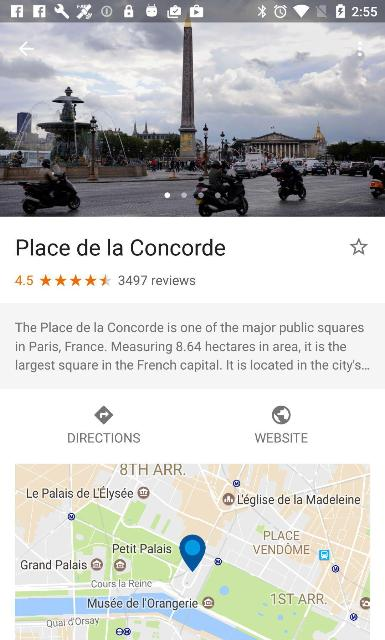Icon: (40, 274, 112, 286), (94, 406, 114, 424), (272, 406, 290, 424), (350, 237, 368, 255), (18, 41, 34, 57), (357, 41, 363, 58)
Image: (0, 23, 384, 217), (15, 464, 369, 640)
PageIndicator: (164, 192, 220, 198)
Text: (15, 322, 369, 372), (17, 238, 225, 256), (119, 274, 196, 286), (68, 433, 140, 443), (255, 433, 308, 443), (15, 274, 33, 286)
TextImageButton: (68, 405, 140, 443), (255, 406, 308, 442)
UpperTaskBar: (0, 0, 384, 22)
